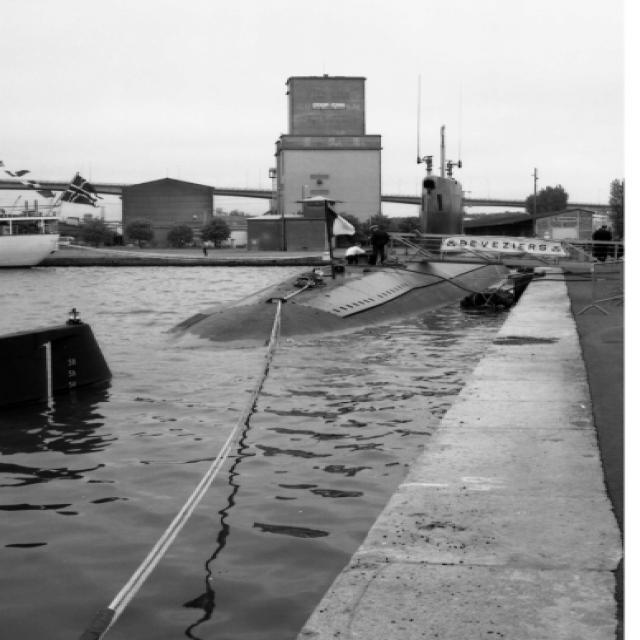submarine: (1, 264, 524, 428)
